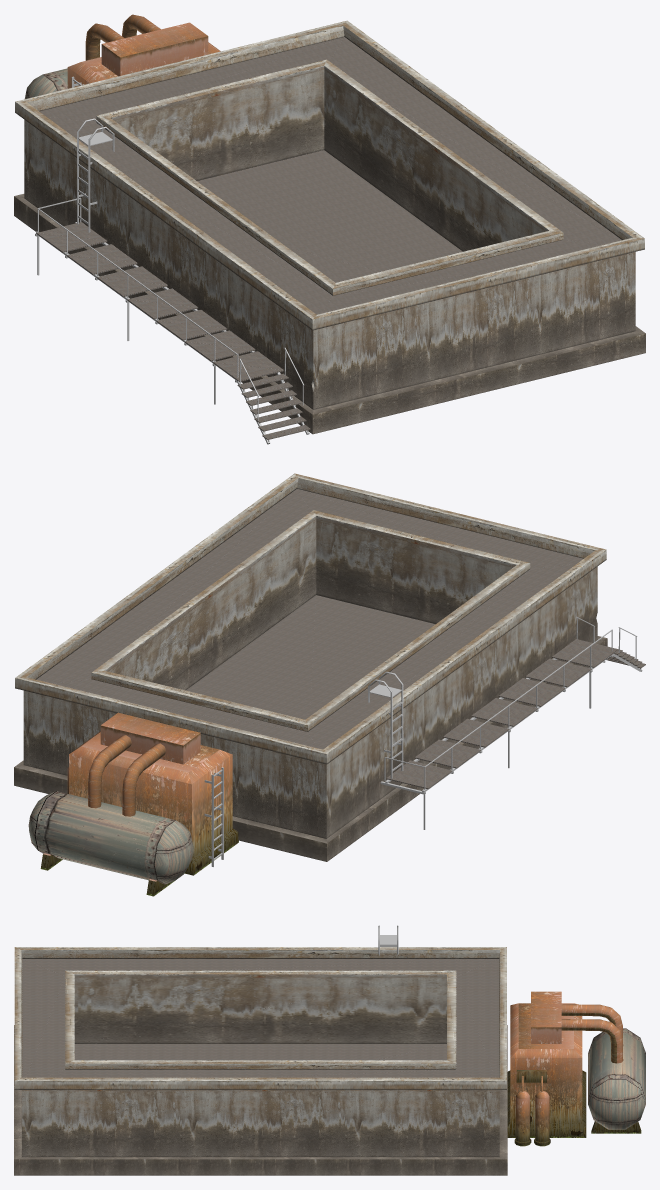
Rendered from pool_lod0.fbx.
3 renders of one model, top to bottom at view 1: azimuth 30°, elevation 25°; view 2: azimuth 150°, elevation 25°; view 3: azimuth 270°, elevation 25°, orthographic. The views are drawn at different scales.
Visible parts, largest first — view 1: Mesh Object, Mesh Object_ncl1_1, Mesh Object_ncl1_3, Mesh Object_ncl1_2; view 2: Mesh Object, Mesh Object_ncl1_3, Mesh Object_ncl1_1, Mesh Object_ncl1_2; view 3: Mesh Object, Mesh Object_ncl1_3.
Part boxes in pixels (box(x1,y1,x2,y2)): Mesh Object: box(14, 20, 645, 434); Mesh Object_ncl1_1: box(35, 197, 310, 444); Mesh Object_ncl1_3: box(24, 14, 220, 98); Mesh Object_ncl1_2: box(77, 118, 114, 232); Mesh Object: box(14, 473, 607, 861); Mesh Object_ncl1_3: box(28, 712, 238, 896); Mesh Object_ncl1_1: box(380, 616, 645, 829); Mesh Object_ncl1_2: box(368, 671, 403, 778); Mesh Object: box(14, 947, 507, 1175); Mesh Object_ncl1_3: box(507, 991, 645, 1146).
Bounding box in the file's own units: 11.39 × 4.24 × 20.04.
